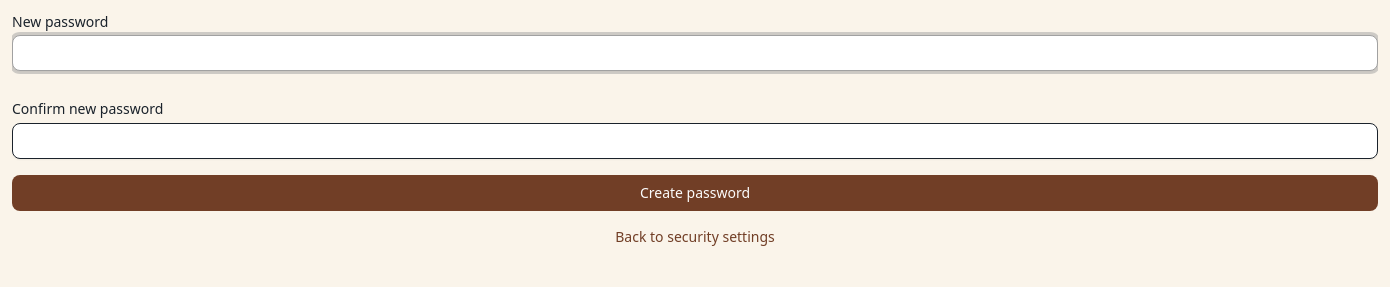
Scenario: CreatePasswordForm › should show error when passwords do not match
In the password field named "newPassword": [695, 53] box [12,35,1378,71], type "NewPassword123!"
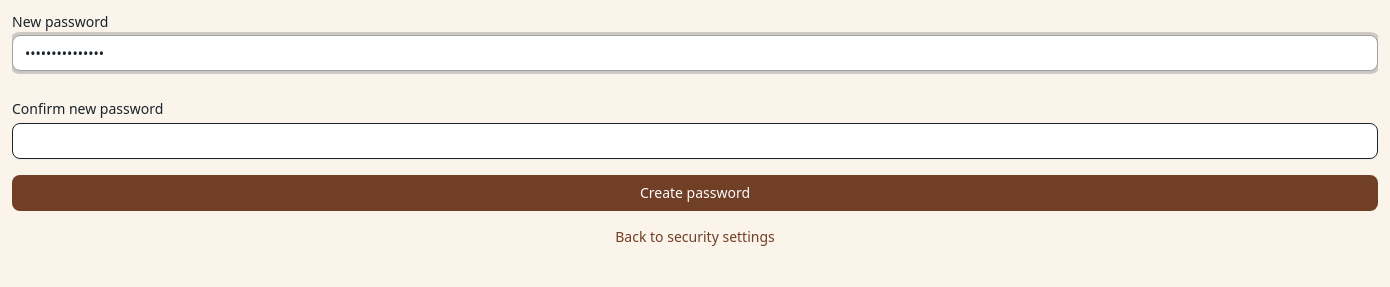
In the password field named "confirmPassword": [695, 141] box [12,123,1378,159], type "DifferentPassword123!"
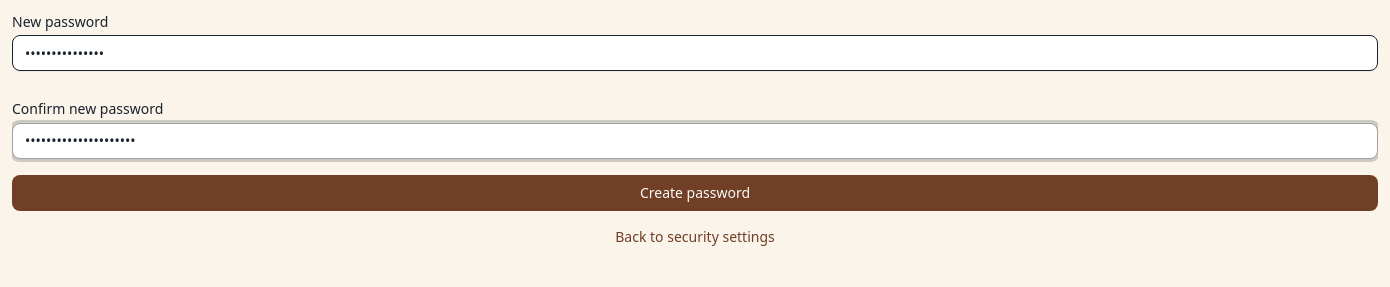
Click the submit button: [695, 193] box [12,175,1378,211]
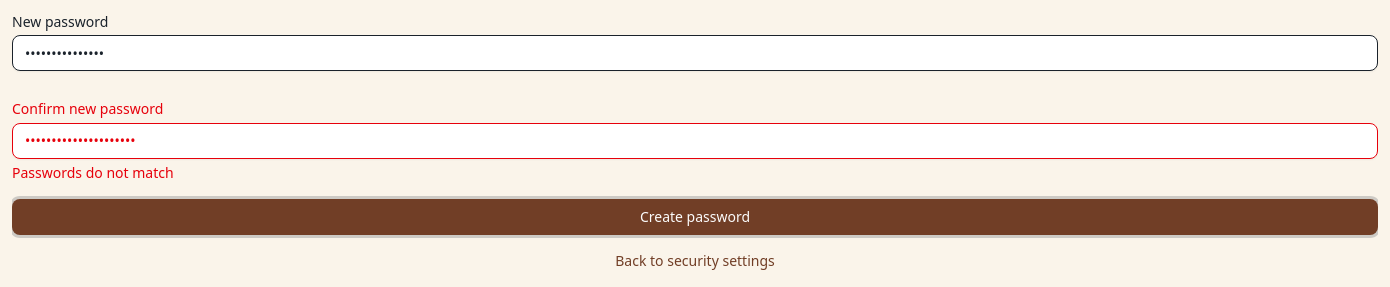
expect the message with test id "error-message-confirmPassword" reads "Passwords do not match": met, box [12,163,174,182]
